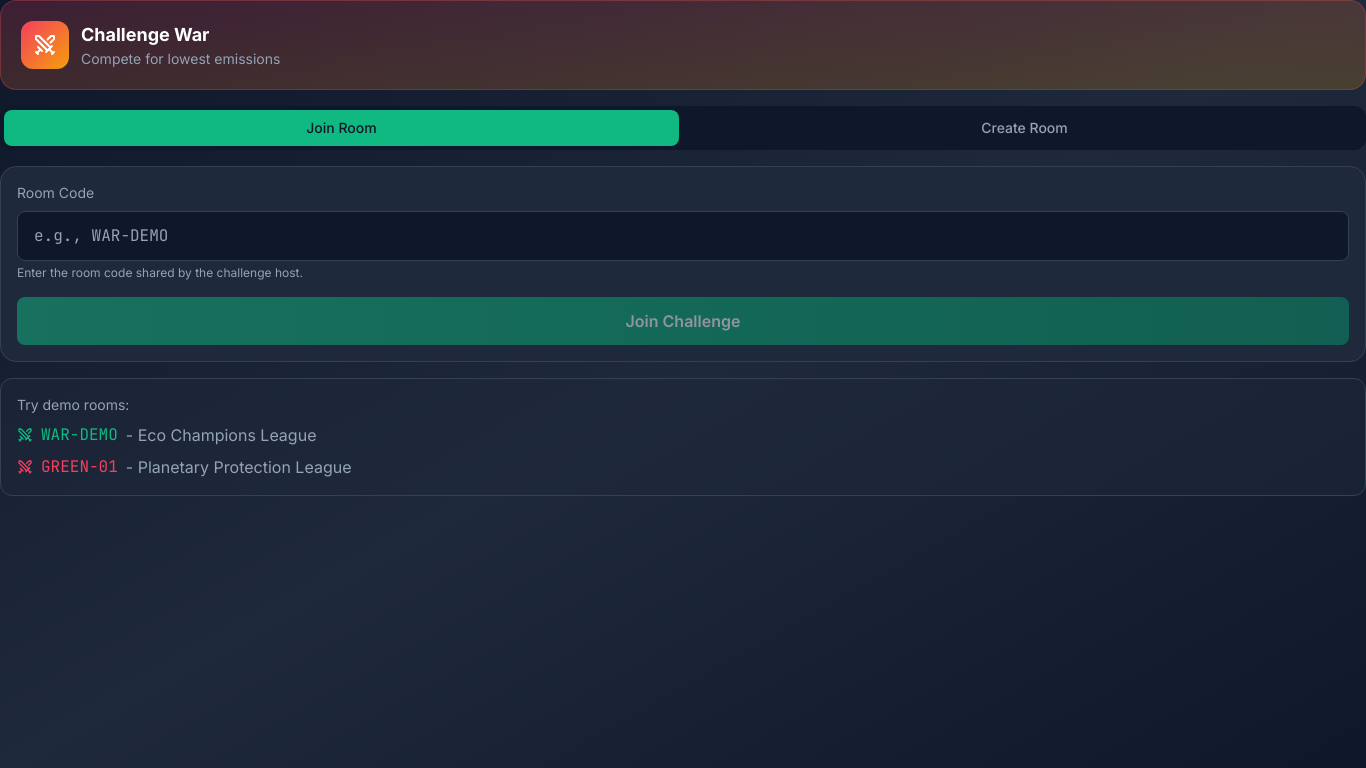
Test: ChallengeRoom – Create Form › shows error when creating room with empty name
The width and height of the screenshot is (1366, 768).
Click the tab "Create Room". click: {"x": 1024, "y": 128}
box: x1=687 y1=110 x2=1362 y2=146
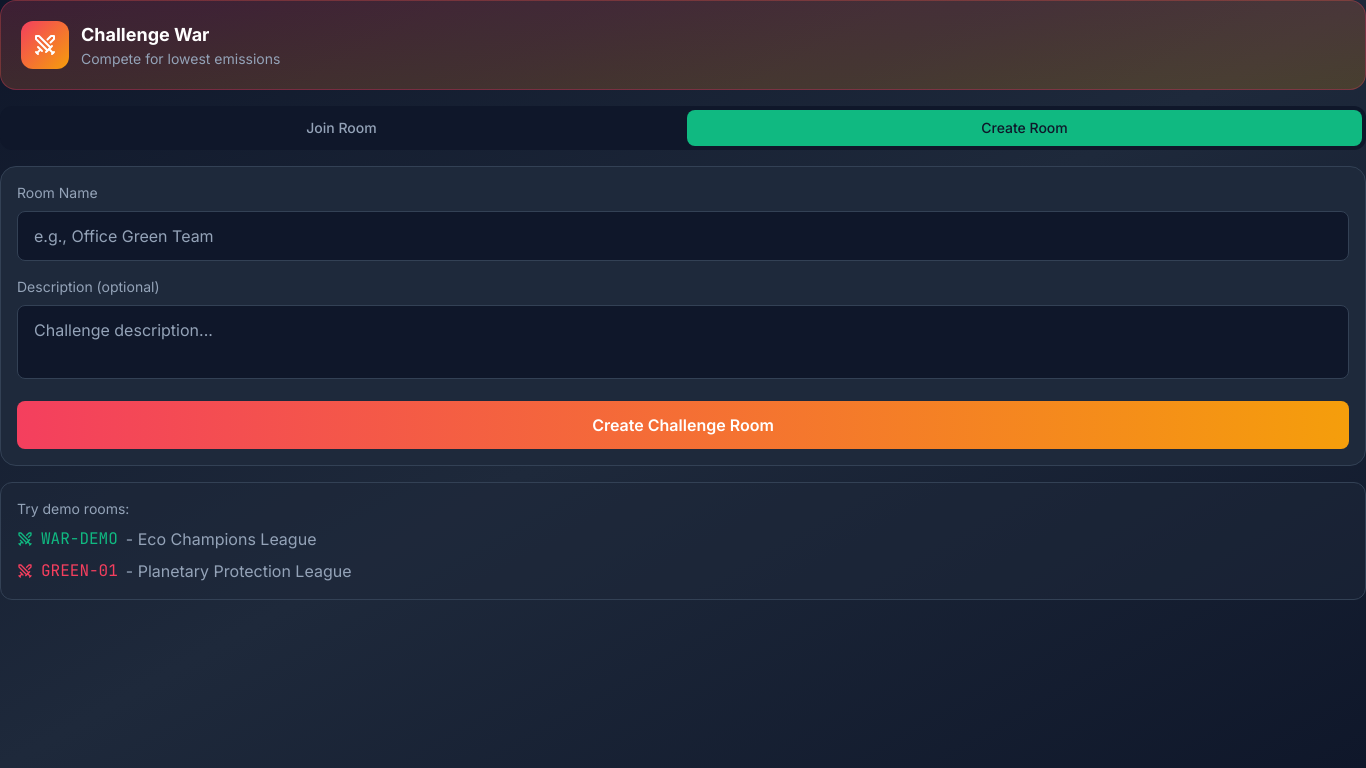
Click the button with aria-label "create a new challenge room". click: {"x": 683, "y": 425}
box: x1=17 y1=401 x2=1349 y2=449
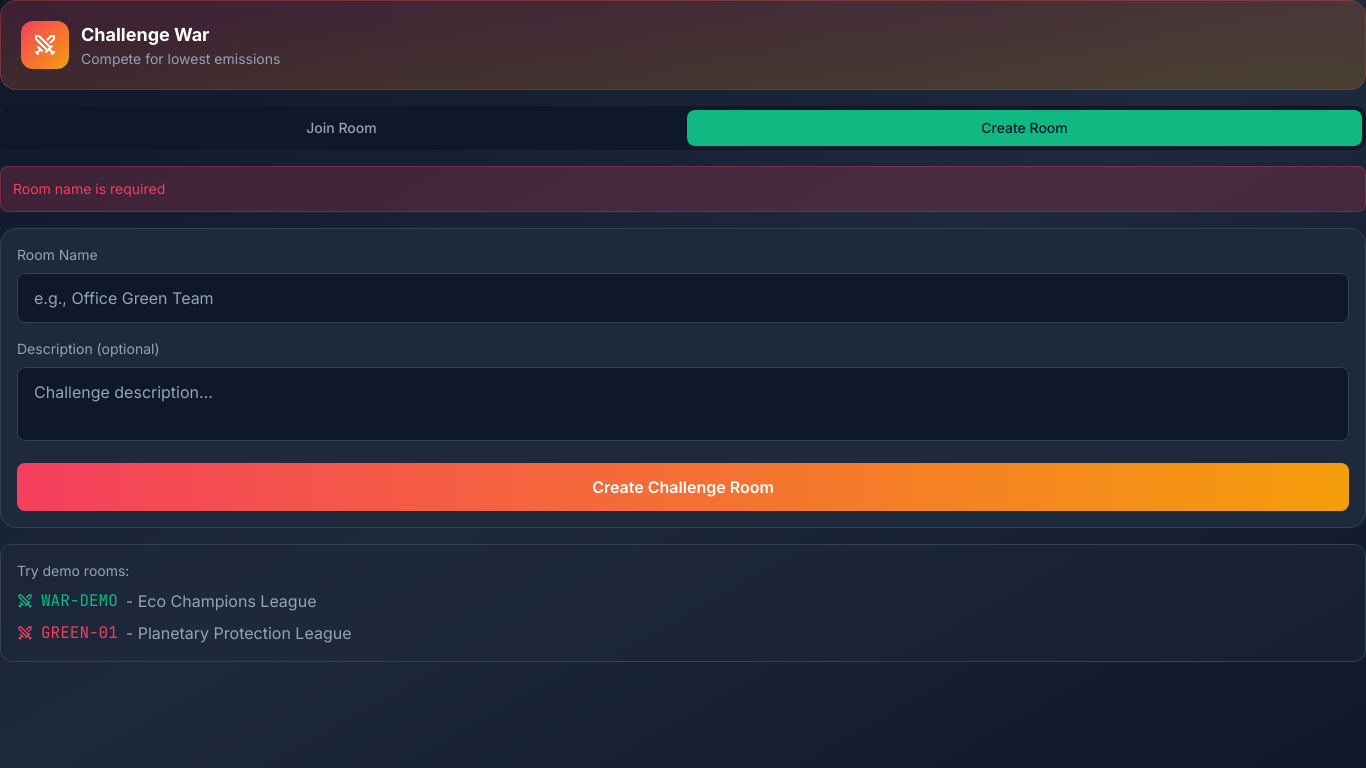
Expected: the text "Room name is required" is shown, x1=0 y1=166 x2=1365 y2=212
